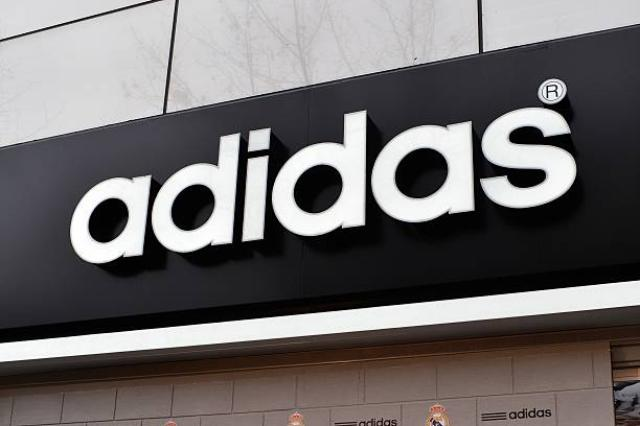Adidas: (55, 60, 603, 294)
